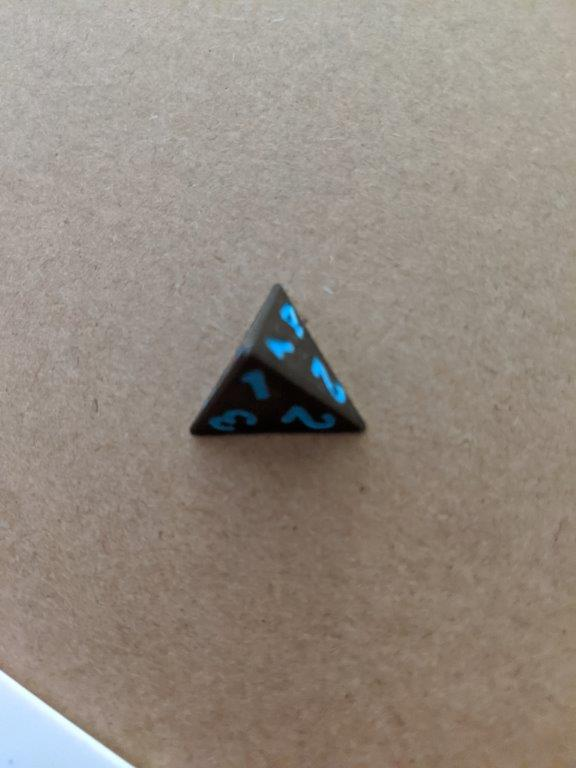d4-1: (176, 282, 373, 440)
